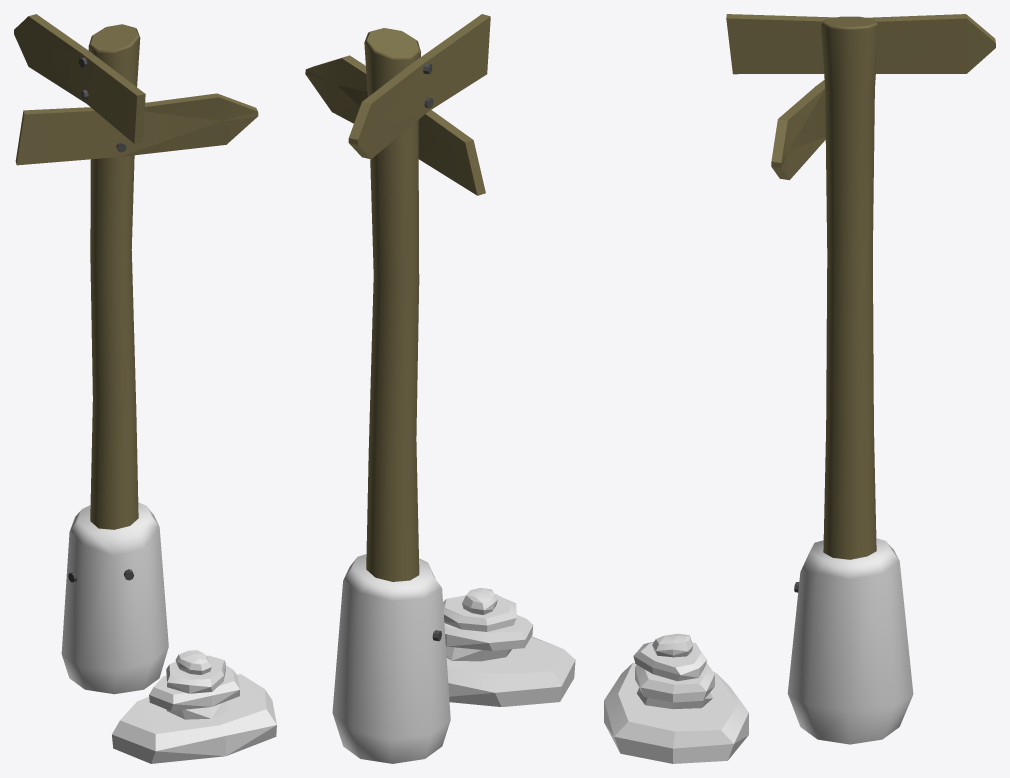
Rendered from roadside_items.fbx.
3 renders of one model, left to right at view 1: azimuth 30°, elevation 25°; view 2: azimuth 150°, elevation 25°; view 3: azimuth 270°, elevation 25°, orthographic. The views are drawn at different scales.
Parts seen in each view (by area): view 1: pCylinder104, pCylinder103, pCube130, pCylinder111, pCube129, pCylinder116, pCylinder117, pCylinder115, pCylinder112; view 2: pCylinder104, pCylinder103, pCube129, pCylinder111, pCube130, pCylinder116, pCylinder117, pCylinder115, pCylinder112; view 3: pCylinder104, pCylinder103, pCube129, pCylinder111, pCube130, pCylinder116, pCylinder117, pCylinder115.
Boxes of the visible parts, box(x1,y1,x2,y2) form: pCylinder104: box(88, 24, 140, 529); pCylinder103: box(61, 502, 168, 694); pCube130: box(15, 93, 258, 165); pCylinder111: box(112, 674, 276, 763); pCube129: box(14, 14, 145, 143); pCylinder116: box(149, 665, 239, 710); pCylinder117: box(166, 655, 225, 693); pCylinder115: box(175, 650, 211, 674); pCylinder112: box(166, 701, 229, 719); pCylinder104: box(364, 28, 420, 581); pCylinder103: box(332, 554, 450, 763); pCube129: box(348, 14, 490, 159); pCylinder111: box(446, 636, 575, 706); pCube130: box(305, 55, 485, 195); pCylinder116: box(444, 615, 533, 650); pCylinder117: box(443, 594, 516, 631); pCylinder115: box(462, 588, 497, 614); pCylinder112: box(446, 646, 511, 661); pCylinder104: box(821, 16, 878, 559); pCylinder103: box(787, 538, 913, 744); pCube129: box(726, 14, 995, 74); pCylinder111: box(604, 662, 748, 763); pCube130: box(771, 80, 825, 180); pCylinder116: box(635, 663, 714, 702); pCylinder117: box(633, 641, 706, 681); pCylinder115: box(652, 633, 693, 657).
Size of the model in its own units: 46.65 by 142 by 71.16.
